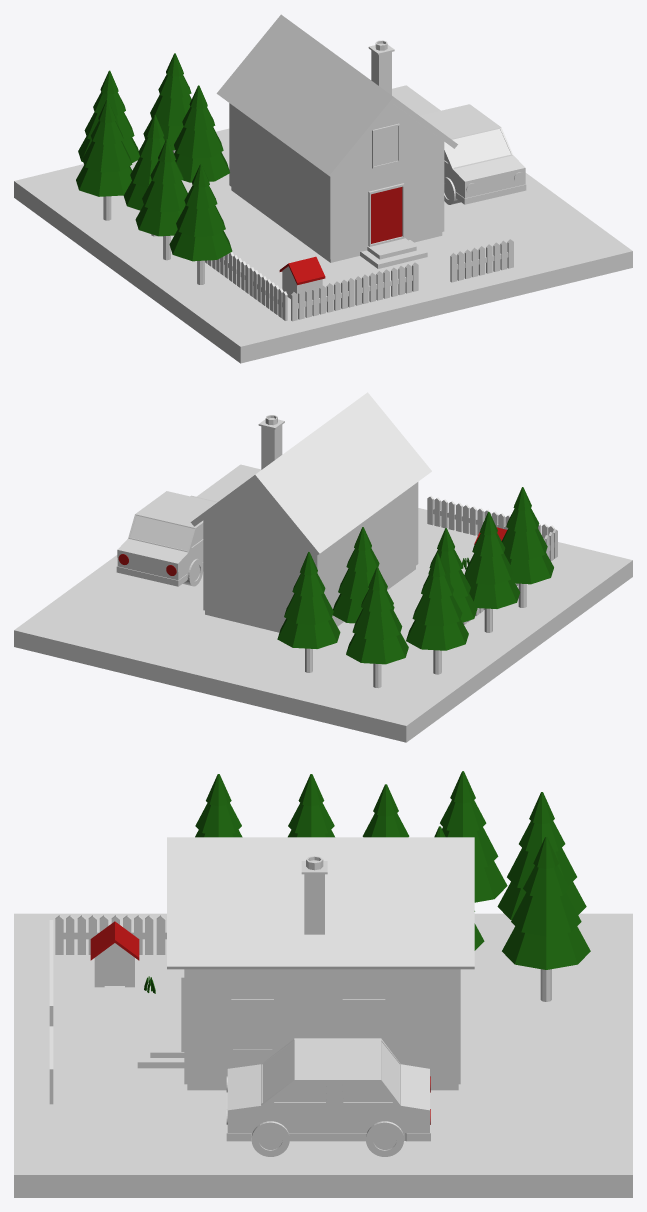
File: house.fbx
3 renders of one model, top to bottom at view 1: azimuth 30°, elevation 25°; view 2: azimuth 150°, elevation 25°; view 3: azimuth 270°, elevation 25°, orthographic. The views are drawn at different scales.
Visible parts, largest first — view 1: Cube, SketchUp.1114, Cube.043, Cylinder, Cylinder.005, Cylinder.001, Cylinder.006, Cylinder.004, Plane.005, Plane.006, Plane, Cylinder.002 (+4 smaller); view 2: Cube, SketchUp.1114, Cube.043, Cylinder.003, Cylinder.005, Cylinder.004, Cylinder.001, Cylinder, Cylinder.006, Plane, Cylinder.002; view 3: Cube, SketchUp.1114, Cube.043, Cylinder.004, Cylinder.003, Cylinder.005, Cube.044, Plane.007, Cylinder, Cylinder.001, Cylinder.002.
Boxes of the visible parts, x1,y1,x2,y2 form: Cube: (14, 85, 632, 363); SketchUp.1114: (216, 14, 457, 268); Cube.043: (419, 104, 526, 204); Cylinder: (169, 164, 232, 284); Cylinder.005: (76, 99, 132, 220); Cylinder.001: (135, 139, 187, 260); Cylinder.006: (174, 85, 229, 182); Cylinder.004: (143, 53, 191, 153); Plane.005: (450, 239, 513, 282); Plane.006: (291, 278, 354, 321); Plane: (355, 262, 418, 305); Cylinder.002: (123, 115, 165, 236); Cube: (14, 464, 632, 742); SketchUp.1114: (190, 392, 431, 632); Cube.043: (116, 491, 217, 586); Cylinder.003: (346, 567, 408, 688); Cylinder.005: (406, 553, 468, 674); Cylinder.004: (277, 552, 340, 672); Cylinder.001: (464, 511, 520, 632); Cylinder: (501, 487, 553, 607); Cylinder.006: (333, 527, 394, 623); Plane: (427, 495, 490, 536); Cylinder.002: (423, 528, 477, 622); Cube: (14, 913, 632, 1197); SketchUp.1114: (137, 837, 474, 1090); Cube.043: (226, 1038, 430, 1156); Cylinder.004: (502, 836, 590, 1001); Cylinder.003: (497, 792, 586, 919); Cylinder.005: (440, 771, 507, 902); Cube.044: (90, 921, 139, 987); Plane.007: (55, 915, 153, 954); Cylinder: (195, 774, 242, 837); Cylinder.001: (288, 774, 334, 837); Cylinder.002: (362, 784, 409, 837).
Size of the model in its own units: 1818 by 791 by 1818.
